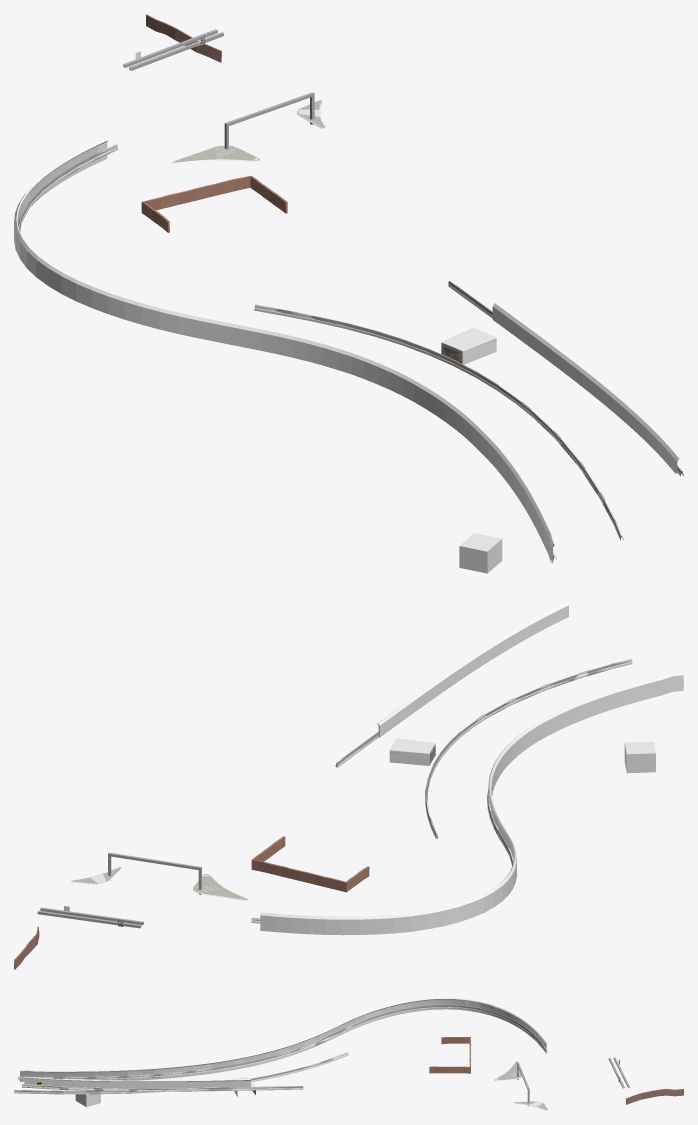
File: port_barriers2.dae
3 views of the same model, one above another, from view 1: azimuth 30°, elevation 25°; view 2: azimuth 150°, elevation 25°; view 3: azimuth 270°, elevation 25° (orthographic). The views are drawn at different scales.
Parts seen in each view (by area): view 1: Colmesh-1, port_barriers2_a3000, port_barriers2_a1000; view 2: Colmesh-1, port_barriers2_a3000, port_barriers2_a1000; view 3: port_barriers2_a3000, Colmesh-1, port_barriers2_a1000.
Boxes of the visible parts, bbox=[...] form: Colmesh-1: bbox=[14, 14, 678, 563]; port_barriers2_a3000: bbox=[17, 29, 683, 573]; port_barriers2_a1000: bbox=[18, 145, 683, 560]; Colmesh-1: bbox=[14, 602, 683, 969]; port_barriers2_a3000: bbox=[37, 658, 683, 928]; port_barriers2_a1000: bbox=[252, 660, 683, 921]; port_barriers2_a3000: bbox=[14, 999, 629, 1110]; Colmesh-1: bbox=[20, 998, 683, 1110]; port_barriers2_a1000: bbox=[14, 1005, 546, 1094].
Size of the model in its own units: 84.84 by 225 by 28.71.
